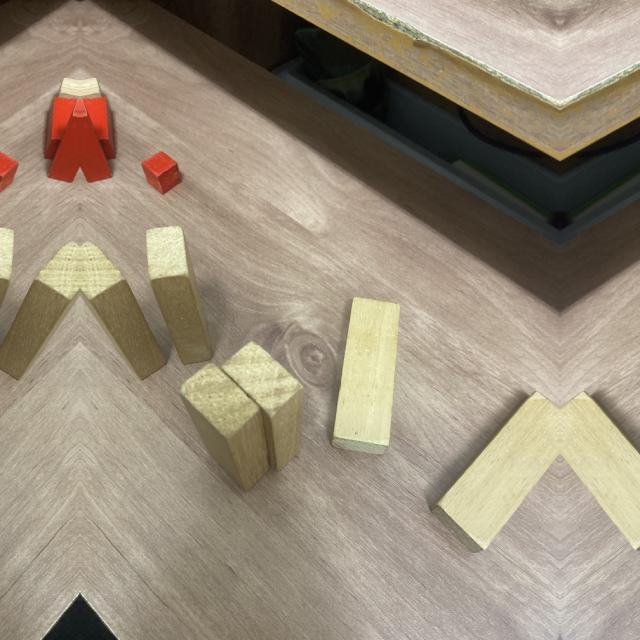cube: (80, 77, 102, 98), (58, 77, 80, 98)
jenga: (432, 389, 560, 555), (560, 389, 640, 550), (178, 362, 271, 493), (81, 241, 167, 379), (0, 241, 79, 379), (333, 298, 400, 458), (221, 342, 302, 472), (146, 227, 213, 365)
red block: (80, 99, 112, 186), (48, 99, 80, 186), (85, 97, 117, 157), (43, 97, 75, 157)
red cube: (141, 150, 181, 193), (0, 150, 19, 190)
